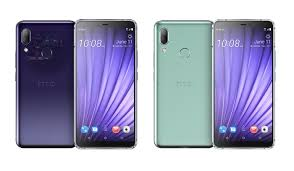htc: (13, 18, 77, 152), (73, 17, 137, 151), (150, 16, 214, 150), (210, 15, 274, 149)
